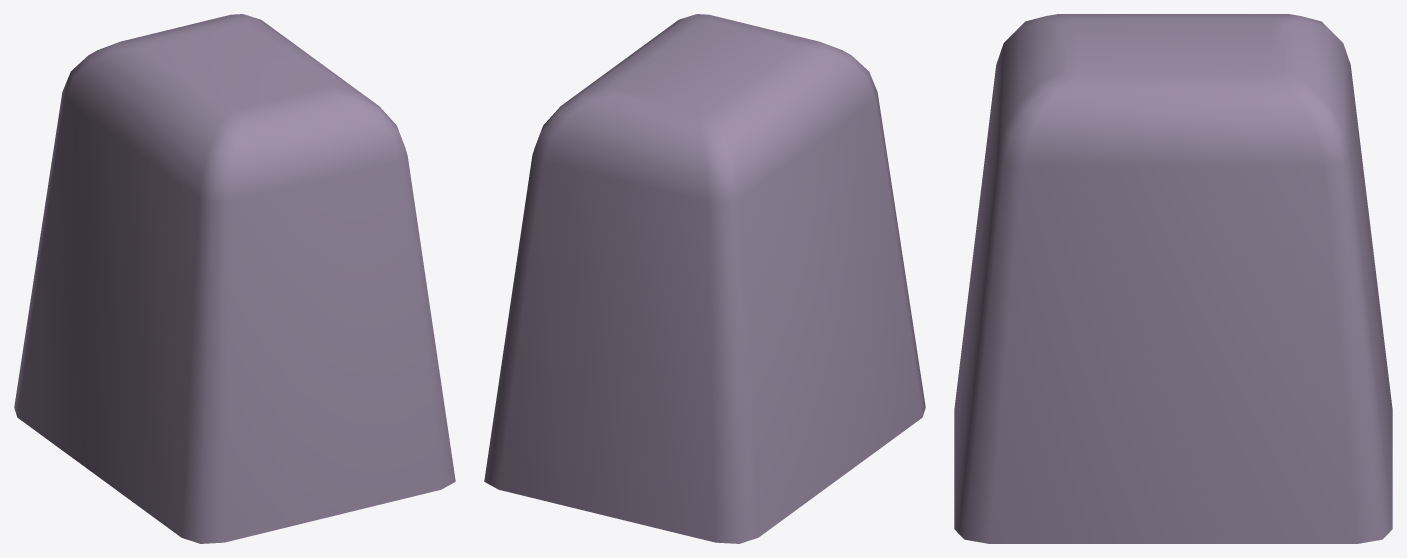
The model's file is SM_Stone_Mid2.fbx.
3 views of the same model, side by side, from view 1: azimuth 30°, elevation 25°; view 2: azimuth 150°, elevation 25°; view 3: azimuth 270°, elevation 25° (orthographic). The views are drawn at different scales.
Visible parts, largest first — view 1: SM_Stone_Mid2; view 2: SM_Stone_Mid2; view 3: SM_Stone_Mid2.
Boxes of the visible parts, x1,y1,x2,y2 form: SM_Stone_Mid2: [14, 14, 455, 543]; SM_Stone_Mid2: [484, 14, 925, 543]; SM_Stone_Mid2: [954, 14, 1392, 543].
Size of the model in its own units: 2 by 2.66 by 2.5.
